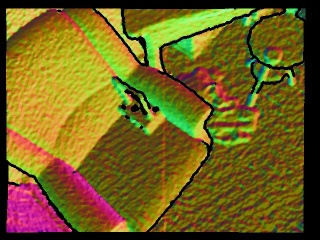station: (112, 76, 167, 137)
